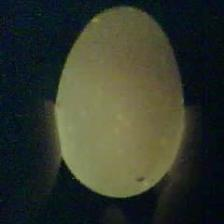infertile: (54, 5, 188, 199)
